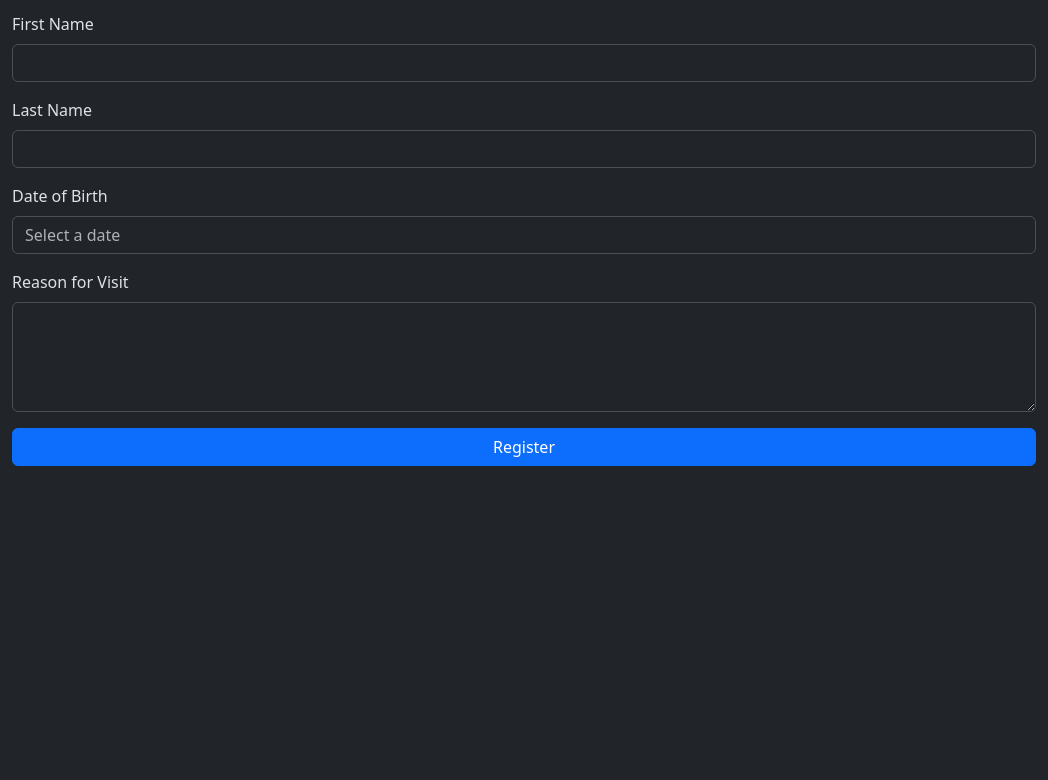
Test: RegistrationForm › client-side validation › displays errors for all fields when submitting empty form
The image size is (1048, 780).
Click the button "Register".
click(524, 447)  # box x1=12 y1=428 x2=1036 y2=466
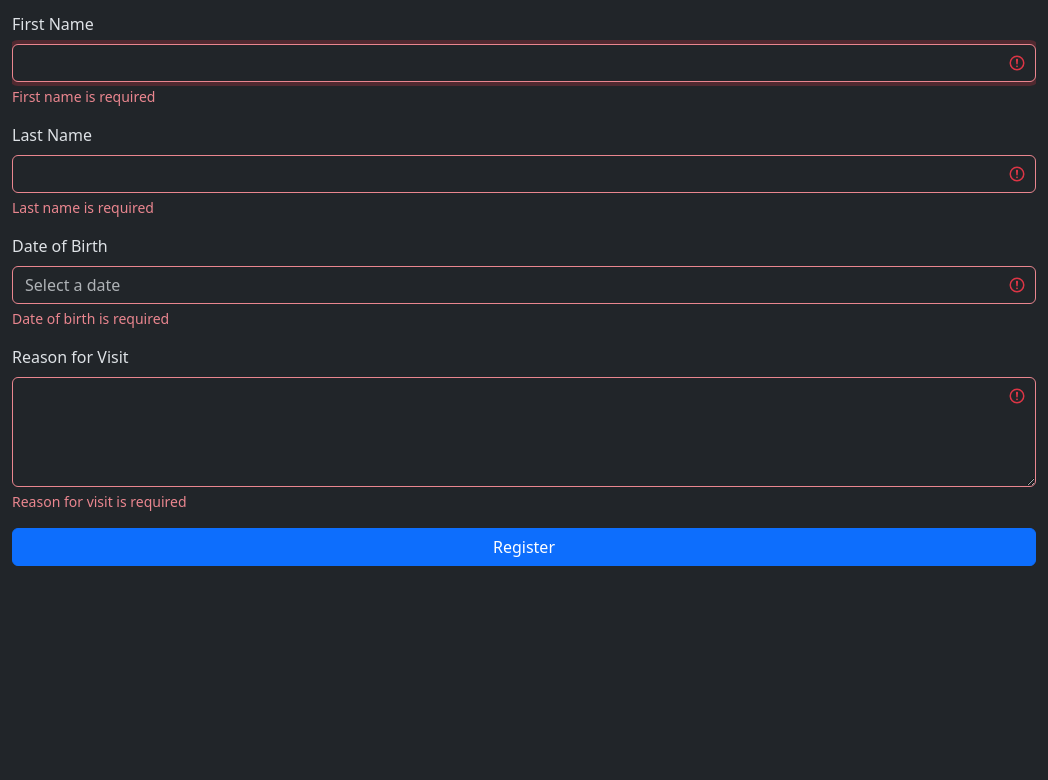
Expected: the text "First name is required" is shown, x1=12 y1=87 x2=155 y2=106
Expected: the text "Last name is required" is shown, x1=12 y1=198 x2=154 y2=217
Expected: the text "Date of birth is required" is shown, x1=12 y1=309 x2=169 y2=328
